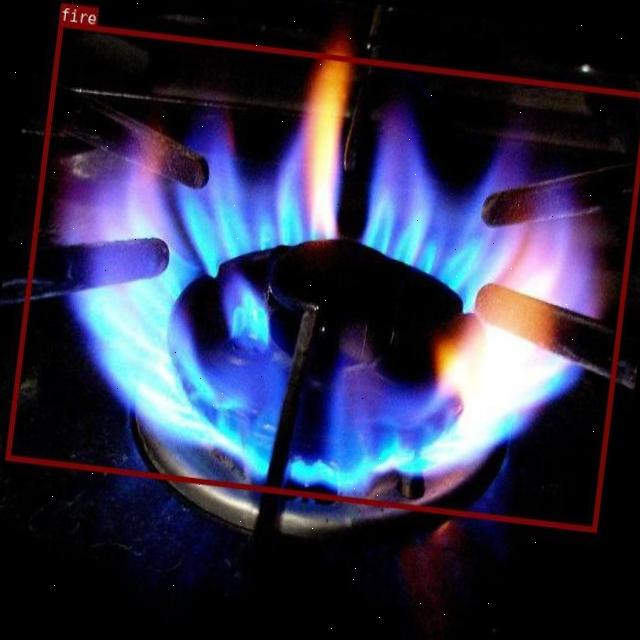fire: (4, 20, 640, 530)
